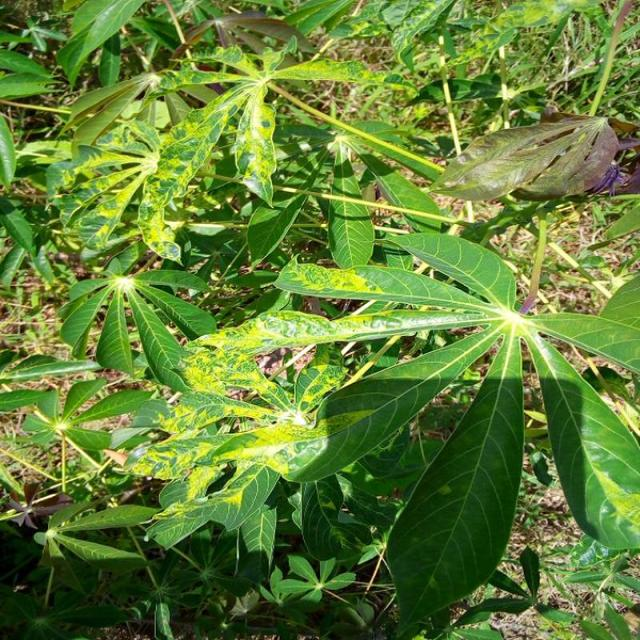cassava leaf: (385, 327, 525, 636), (524, 326, 638, 552), (429, 112, 624, 203)
